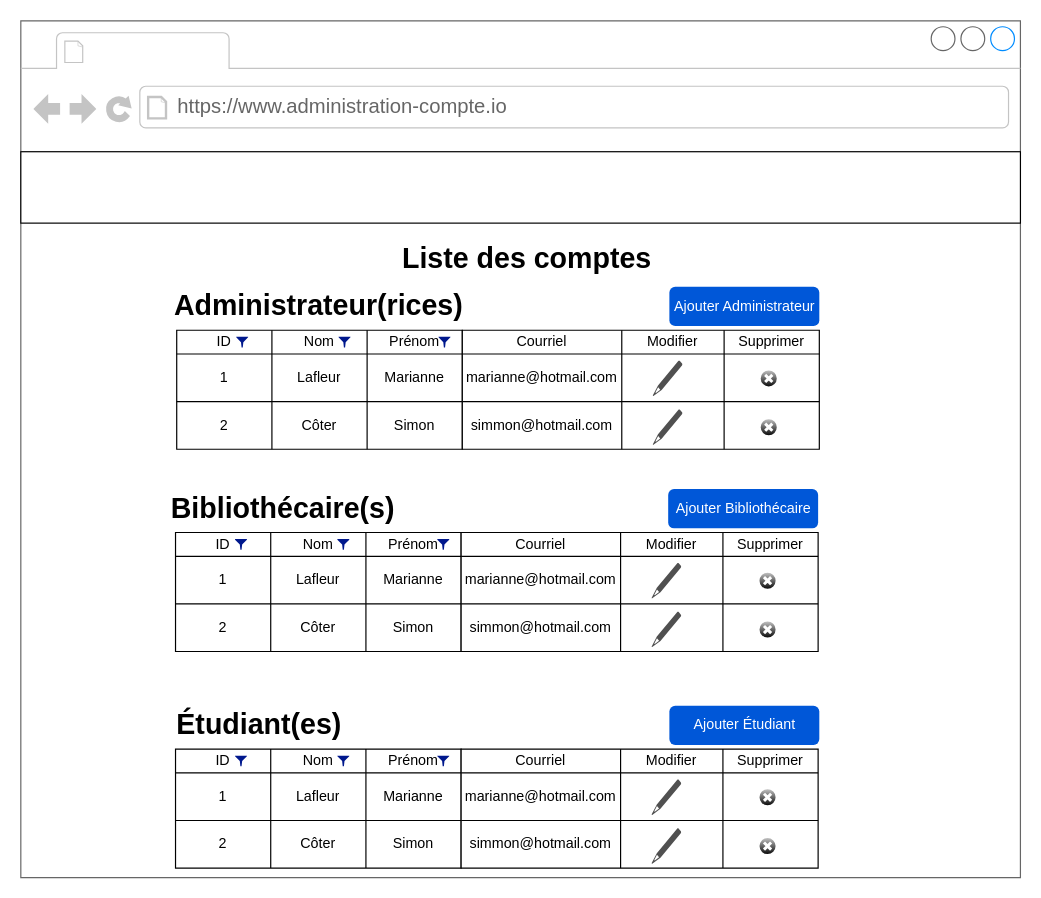
This 1041x898 diagram has some shape labels left out. The box of each missing label's shape, as (x1, y1, x2, y2) in pixels:
barre de naviguation: (20, 151, 1020, 223)
Page 1: (91, 34, 223, 66)
